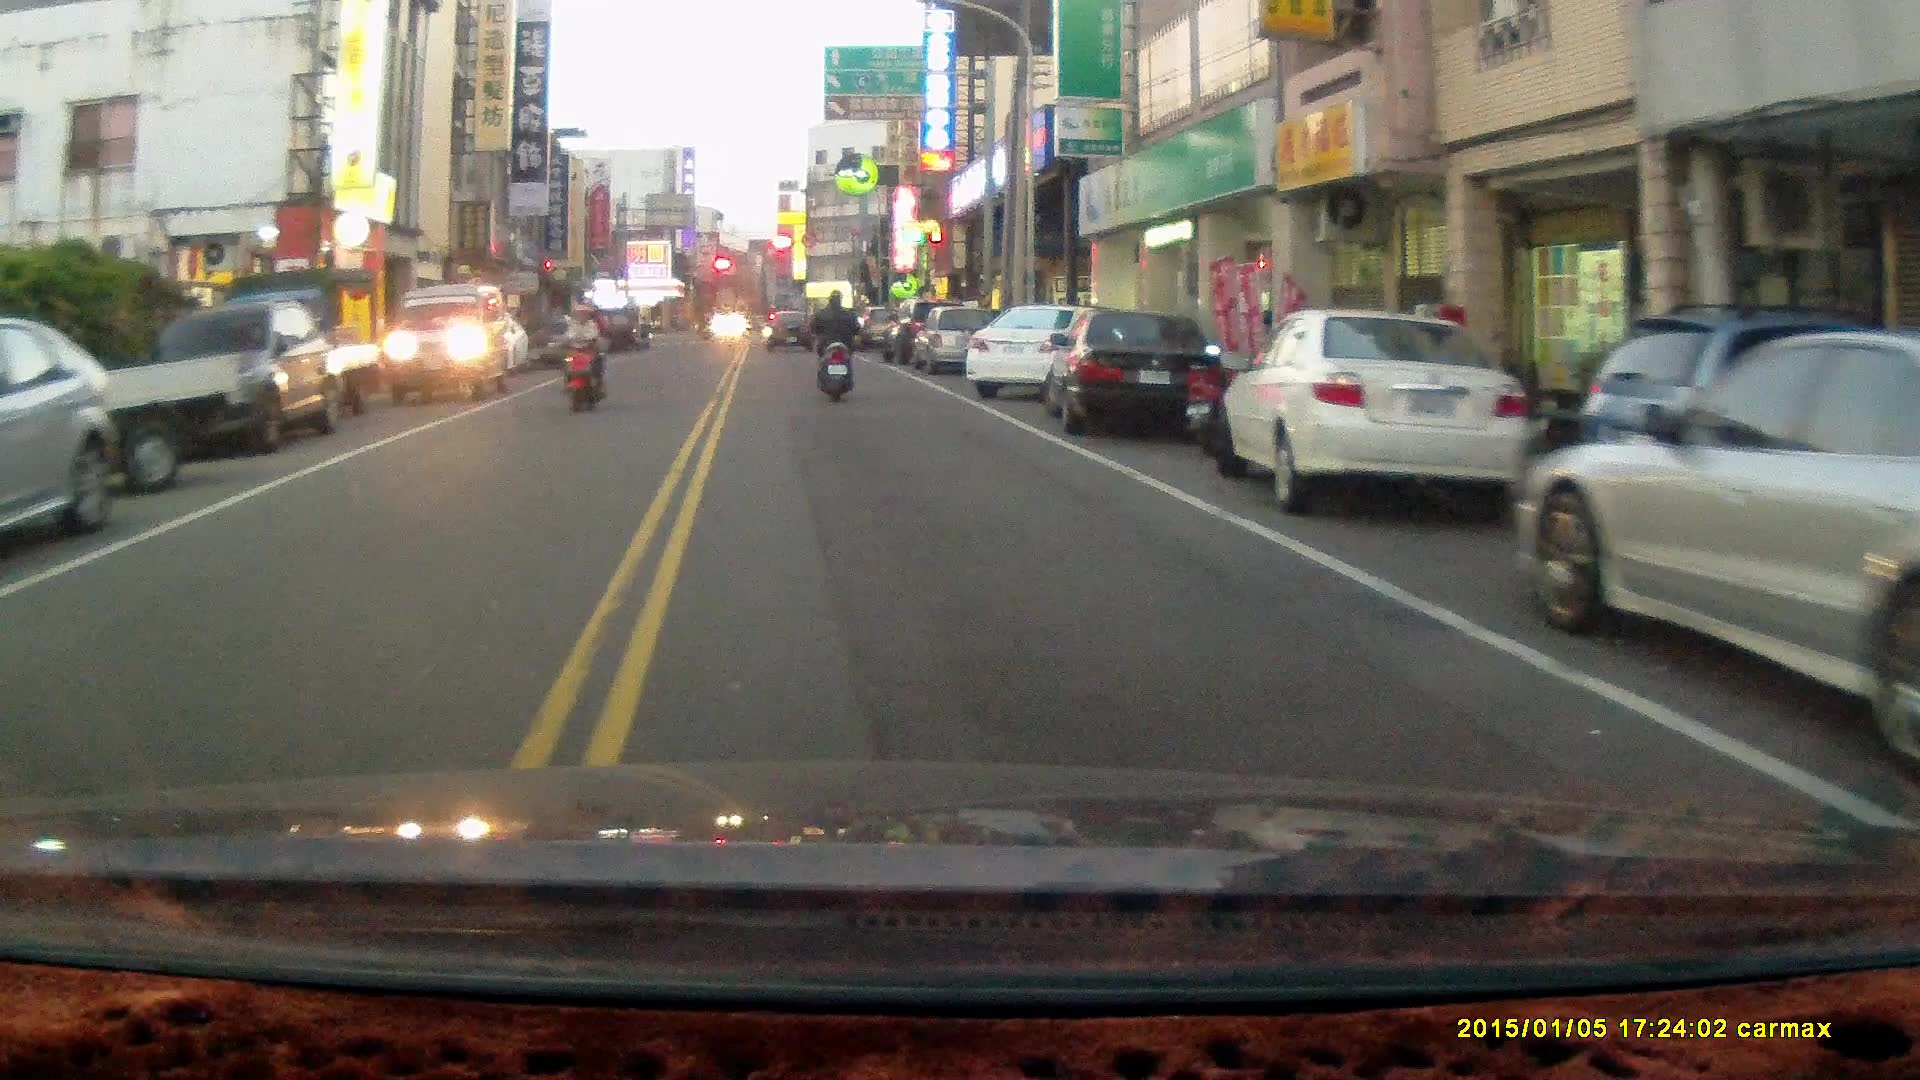rider: (811, 286, 857, 405), (564, 293, 611, 412)
vehicle: (1510, 324, 1920, 771), (1219, 304, 1529, 513), (143, 291, 343, 452), (1, 308, 119, 565), (1044, 304, 1225, 436), (965, 301, 1143, 402), (389, 281, 523, 405), (909, 301, 1015, 379)
